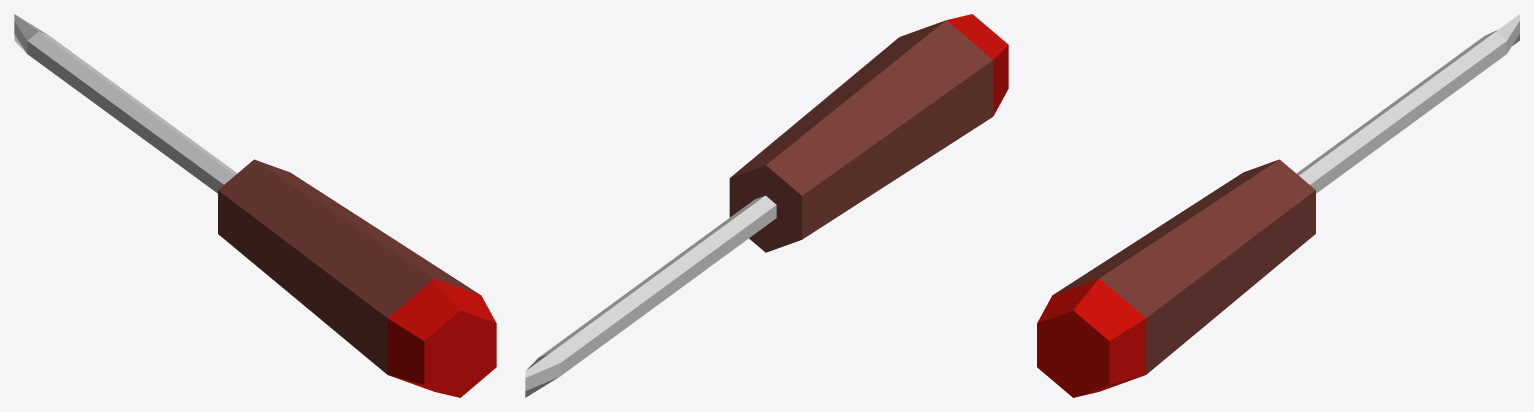
The model's file is Me_Tool_3.fbx.
3 renders of one model, left to right at view 1: azimuth 30°, elevation 25°; view 2: azimuth 150°, elevation 25°; view 3: azimuth 330°, elevation 25°, orthographic.
Parts seen in each view (by area): view 1: Me_Tool_3; view 2: Me_Tool_3; view 3: Me_Tool_3.
Part boxes in pixels (x1,y1,x2,y2): Me_Tool_3: (14,14,496,397); Me_Tool_3: (525,14,1008,397); Me_Tool_3: (1037,14,1519,397).
Bounding box in the file's own units: 33.74 × 278 × 38.96.
